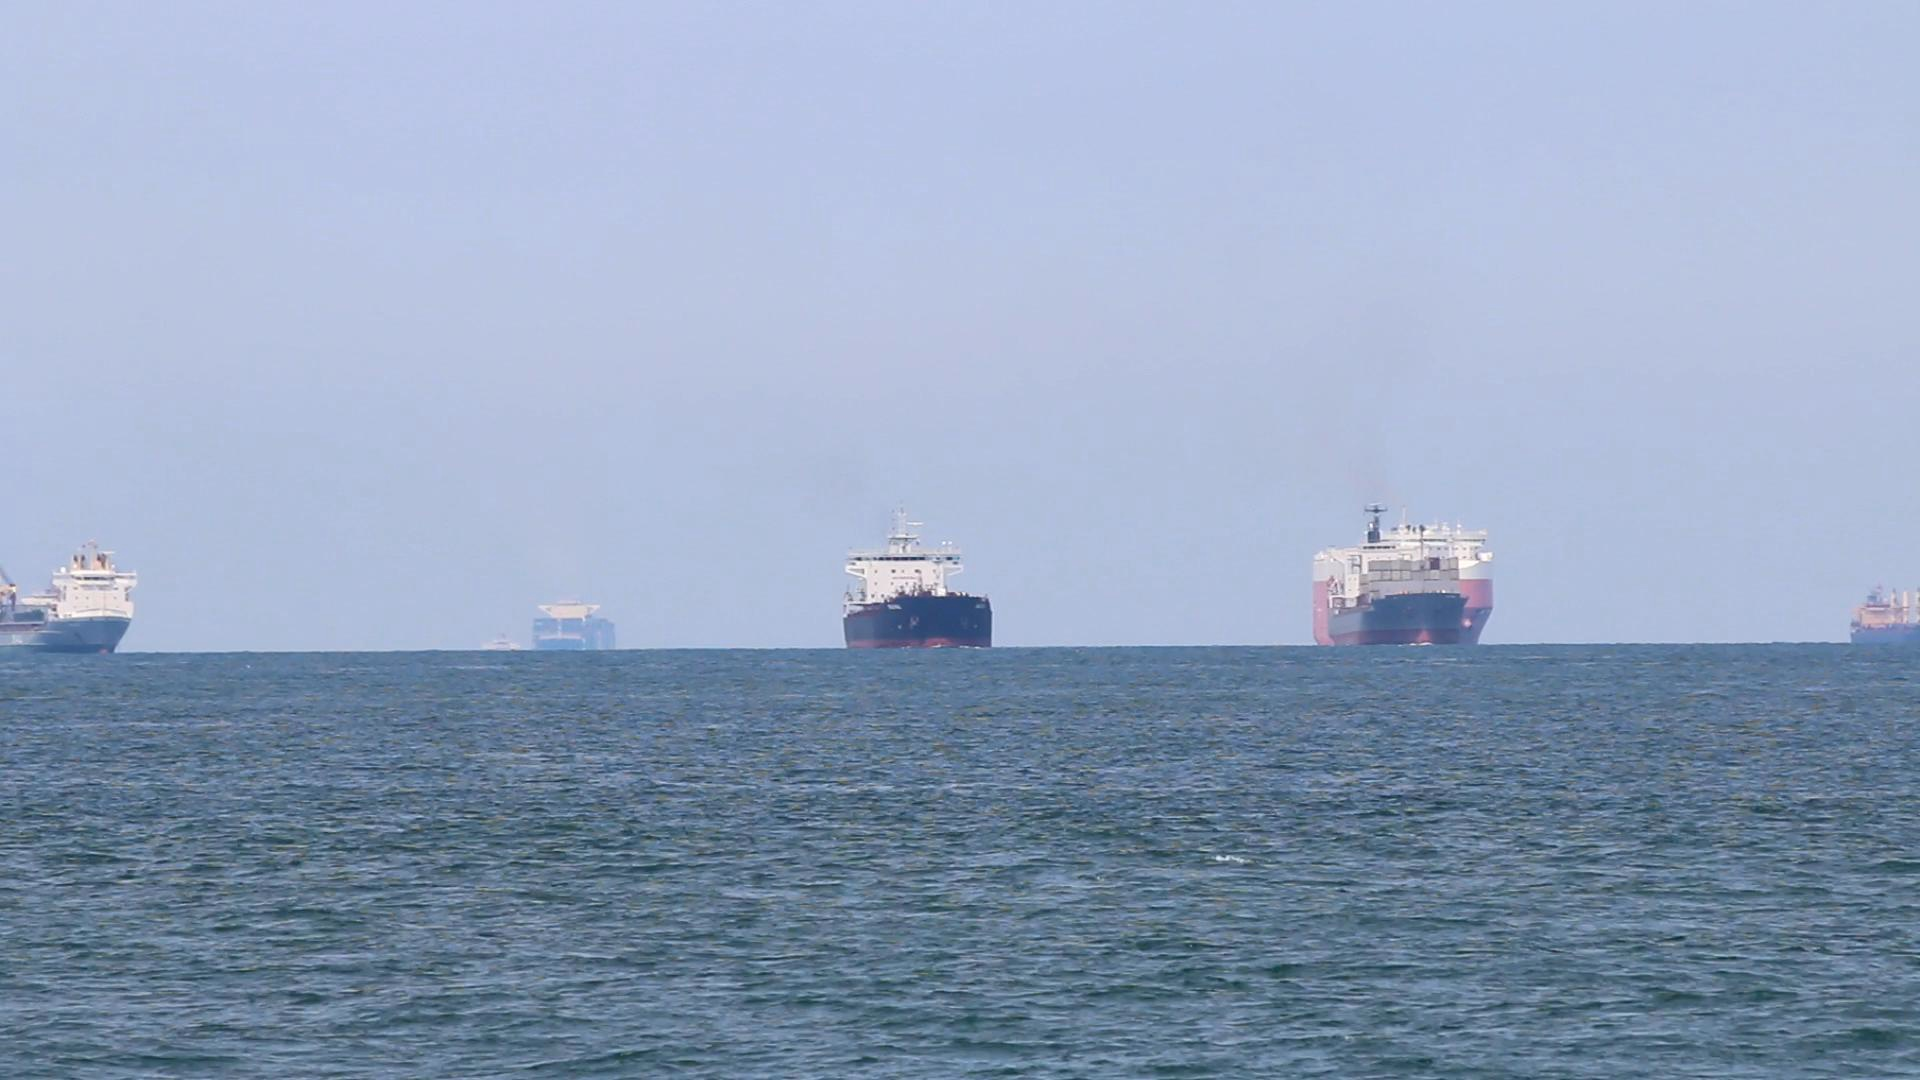Container Ship: (1308, 501, 1501, 655), (839, 500, 996, 662), (0, 541, 145, 662), (525, 597, 622, 670), (1846, 587, 1917, 654), (468, 642, 529, 671)
